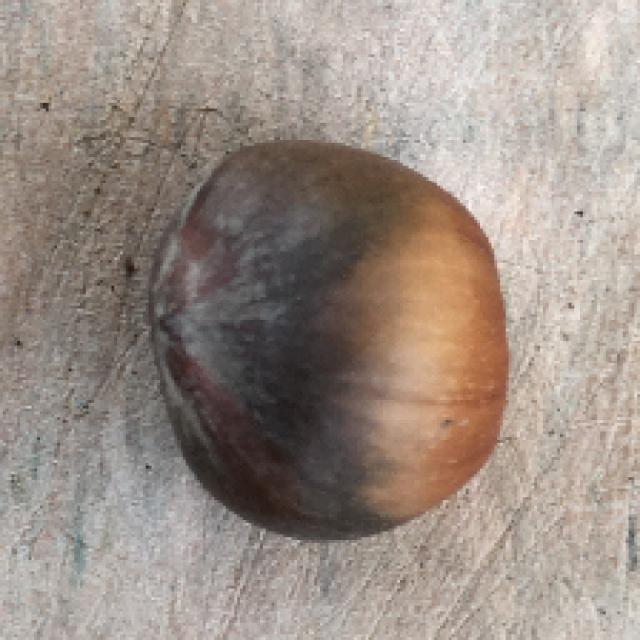damagedHazelnut: (139, 119, 526, 548)
